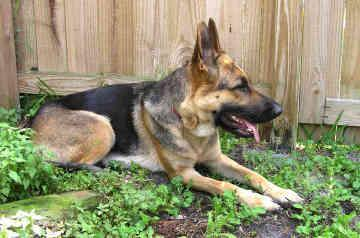German_shepherd: (24, 16, 304, 215)
